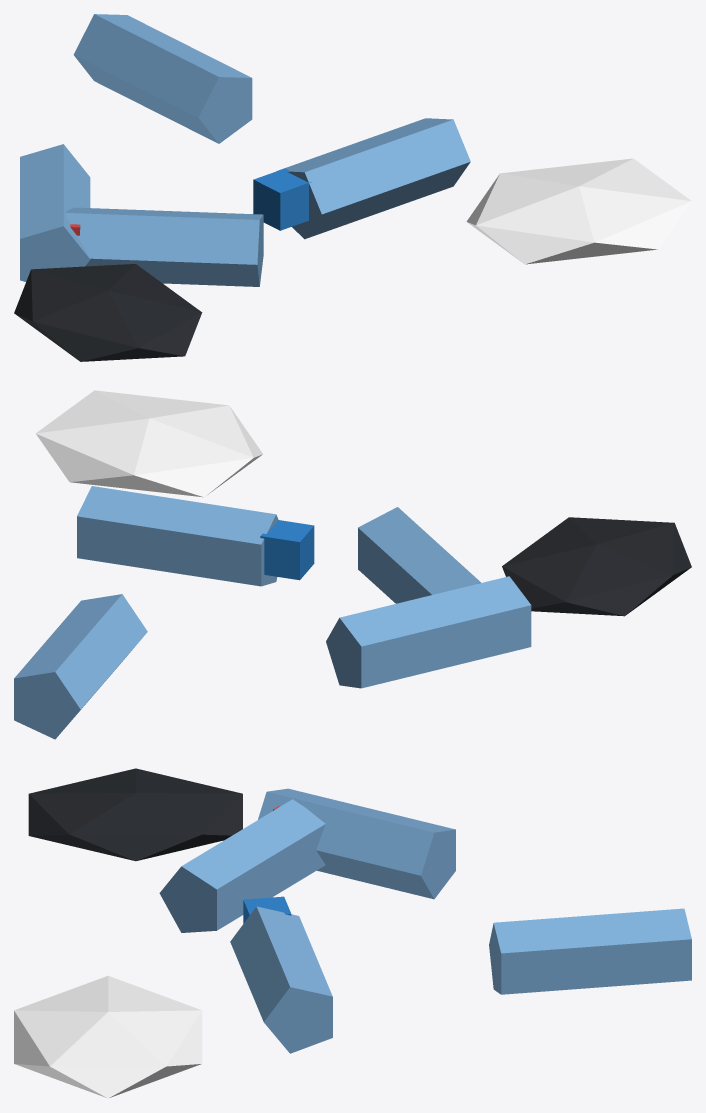
Rendered from lixo_flutuante.glb.
3 renders of one model, top to bottom at view 1: azimuth 30°, elevation 25°; view 2: azimuth 150°, elevation 25°; view 3: azimuth 270°, elevation 25°, orthographic.
Parts seen in each view (by area): view 1: corpo; view 2: corpo; view 3: corpo.
Part boxes in pixels (x1,y1,x2,y2): corpo: [14, 14, 691, 361]; corpo: [14, 390, 691, 739]; corpo: [14, 768, 691, 1098].
Size of the model in its own units: 0.5285 by 0.0533 by 0.4899.
